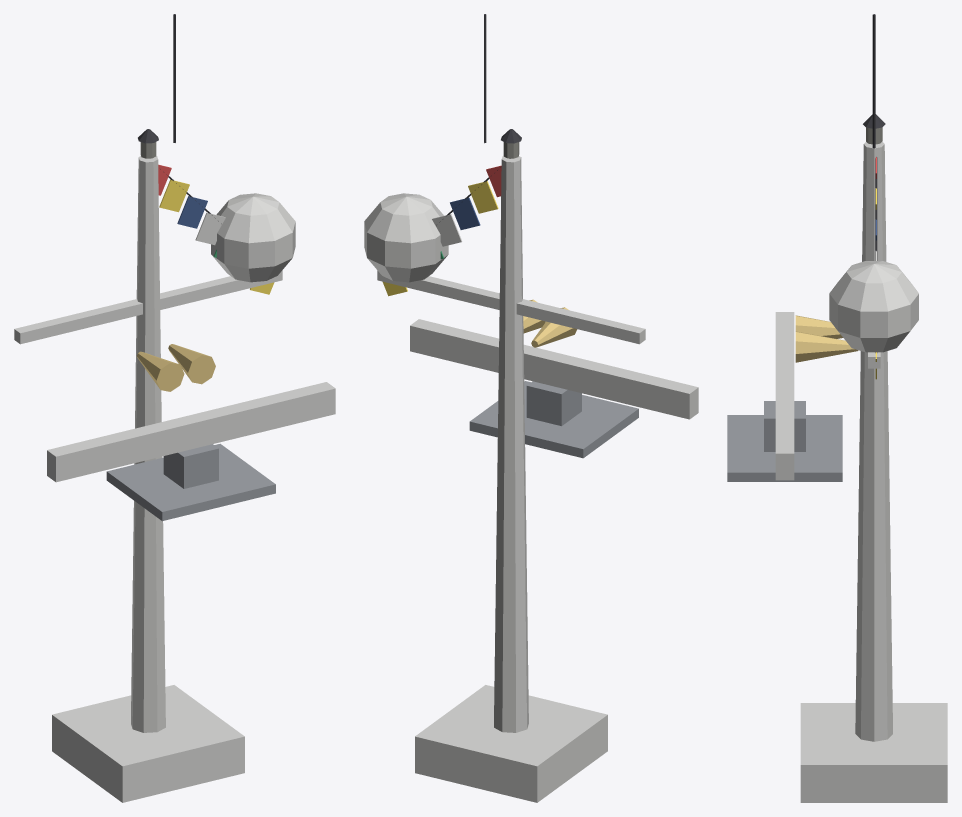
Rendered from CR_Radar.fbx.
3 renders of one model, left to right at view 1: azimuth 30°, elevation 25°; view 2: azimuth 150°, elevation 25°; view 3: azimuth 270°, elevation 25°, orthographic. The views are drawn at different scales.
Visible parts, largest first — view 1: CR_Radar; view 2: CR_Radar; view 3: CR_Radar.
Part boxes in pixels (<box>): CR_Radar: <box>14,14,335,802</box>; CR_Radar: <box>364,14,698,802</box>; CR_Radar: <box>727,14,947,802</box>.
Size of the model in its own units: 3.21 by 8.1 by 2.1.
